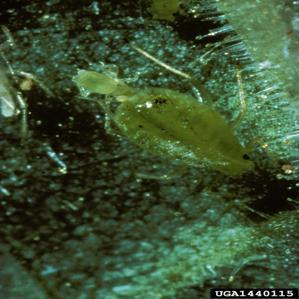Green peach aphid: (69, 54, 277, 204)
